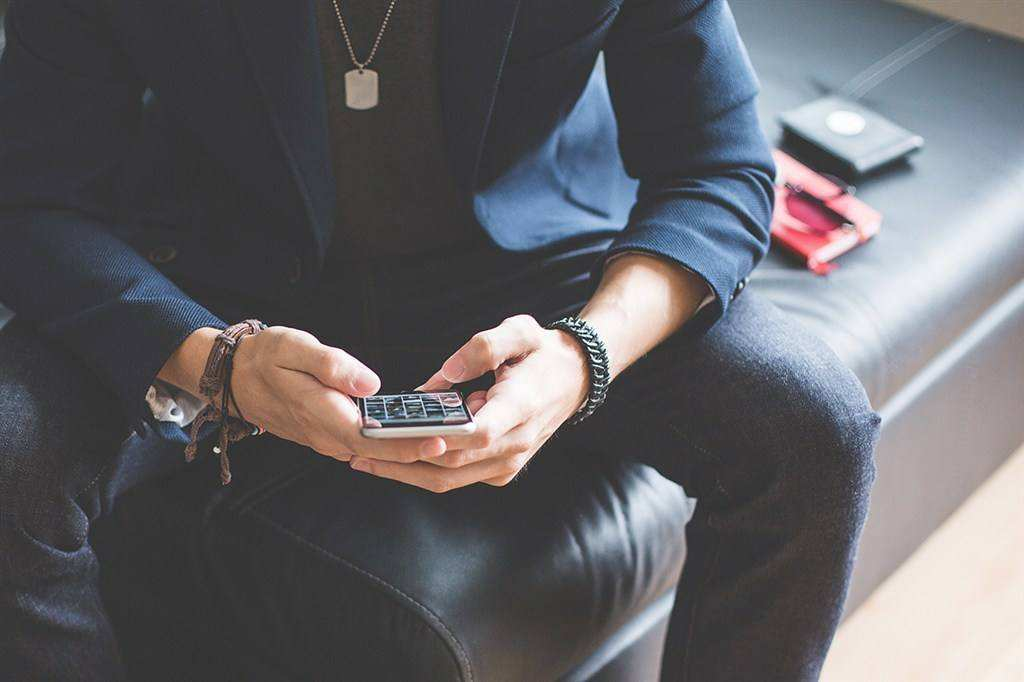reading: (226, 312, 586, 497)
